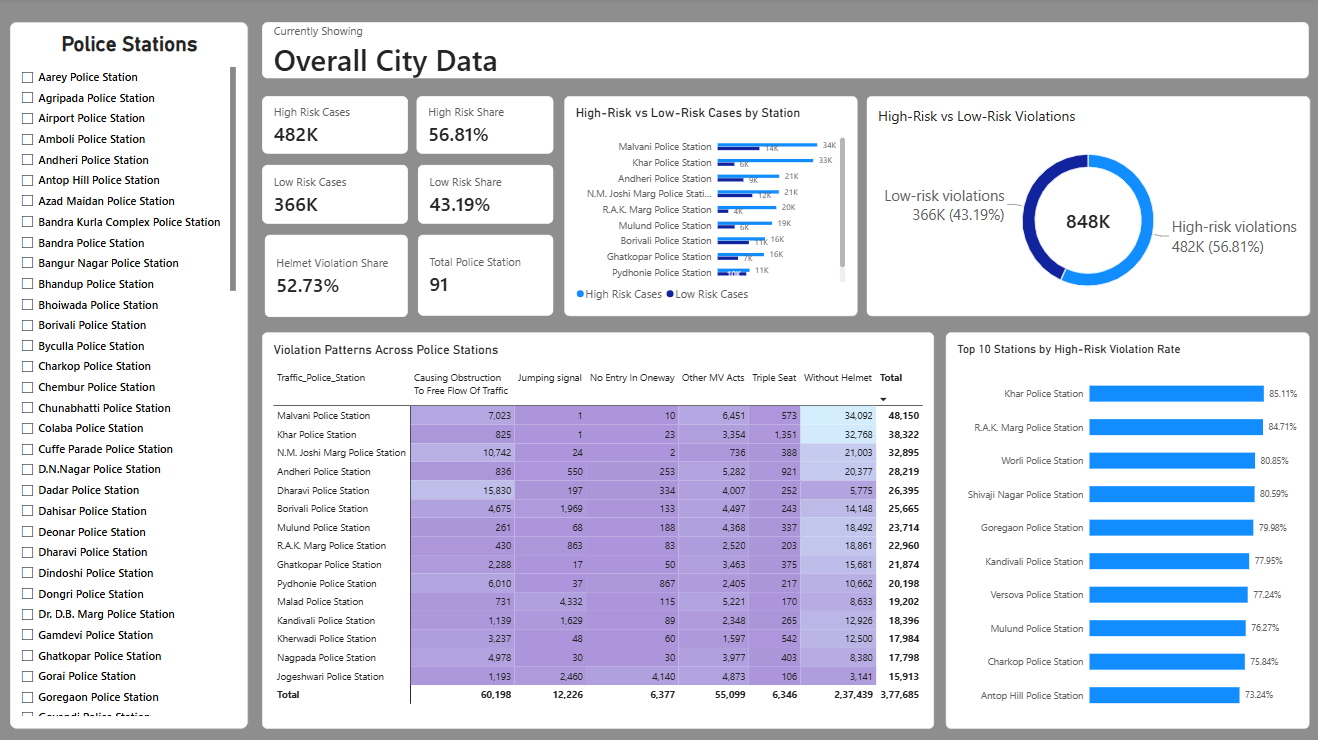

What the dashboard file says about the page in this screenshot:
{"tool":"powerbi","page":{"name":"Enforcement & Risk Analysis","canvas":[1920,1080],"ordinal":1},"visuals":[{"type":"donutChart","title":"High-Risk vs Low-Risk Violations","fields":{"Category":["Violation_Risk_Mapping.Risk_Bucket"],"Y":["_Measure.Total Violation Cases"]},"box":[1261,143.7,643.9,320],"z":0},{"type":"listSlicer","title":"Police Stations","fields":{"Values":["Location.Traffic_Police_Station"]},"box":[16.9,36.5,345.6,1025.6],"z":1000},{"type":"cardVisual","fields":{"Data":["_Measure.Selected Station"]},"box":[384,36,1520,82],"z":2000},{"type":"clusteredBarChart","title":"\tTop 10 Stations by High-Risk Violation Rate","fields":{"Category":["PoliceStations.Traffic_Police_Station"],"Y":["_Measure.High Risk Share"]},"box":[1376,486,528,576],"z":3000},{"type":"clusteredBarChart","title":"High-Risk vs Low-Risk Cases by Station","fields":{"Category":["PoliceStations.Traffic_Police_Station"],"Y":["_Measure.High Risk Cases","_Measure.Low Risk Cases"]},"box":[822.1,143.7,425.4,320],"z":4000},{"type":"pivotTable","title":"Violation Patterns Across Police Stations","fields":{"Columns":["Violation.Violation"],"Rows":["PoliceStations.Traffic_Police_Station"],"Values":["_Measure.Total Violation Cases"]},"box":[384,486,976,576],"z":5000},{"type":"cardVisual","fields":{"Data":["_Measure.High Risk Cases"]},"box":[383.3,143.7,212.7,84.3],"z":6000},{"type":"cardVisual","fields":{"Data":["_Measure.Total Police Station"]},"box":[609.4,344.9,197.4,118.8],"z":7000},{"type":"cardVisual","fields":{"Data":["_Measure.Helmet Violation Share"]},"box":[387.1,344.9,208.9,120.7],"z":8000},{"type":"cardVisual","fields":{"Data":["_Measure.Low Risk Share"]},"box":[609.4,243.4,197.4,86.2],"z":9000},{"type":"cardVisual","fields":{"Data":["_Measure.High Risk Share"]},"box":[607.5,143.7,199.3,84.3],"z":10000},{"type":"cardVisual","fields":{"Data":["_Measure.Low Risk Cases"]},"box":[383.3,243.4,212.7,86.2],"z":11000}]}

Visuals, with their boxes in screenshot pixels (x1, y1, x2, y2), scaled from the page's 1920x1080 canvas onto the 1318x740 screenshot:
"High-Risk vs Low-Risk Violations" donutChart: <region>866, 98, 1308, 318</region>
"Police Stations" listSlicer: <region>12, 25, 249, 728</region>
cardVisual - _Measure.Selected Station: <region>264, 25, 1307, 81</region>
"	Top 10 Stations by High-Risk Violation Rate" clusteredBarChart: <region>945, 333, 1307, 728</region>
"High-Risk vs Low-Risk Cases by Station" clusteredBarChart: <region>564, 98, 856, 318</region>
"Violation Patterns Across Police Stations" pivotTable: <region>264, 333, 934, 728</region>
cardVisual - _Measure.High Risk Cases: <region>263, 98, 409, 156</region>
cardVisual - _Measure.Total Police Station: <region>418, 236, 554, 318</region>
cardVisual - _Measure.Helmet Violation Share: <region>266, 236, 409, 319</region>
cardVisual - _Measure.Low Risk Share: <region>418, 167, 554, 226</region>
cardVisual - _Measure.High Risk Share: <region>417, 98, 554, 156</region>
cardVisual - _Measure.Low Risk Cases: <region>263, 167, 409, 226</region>
